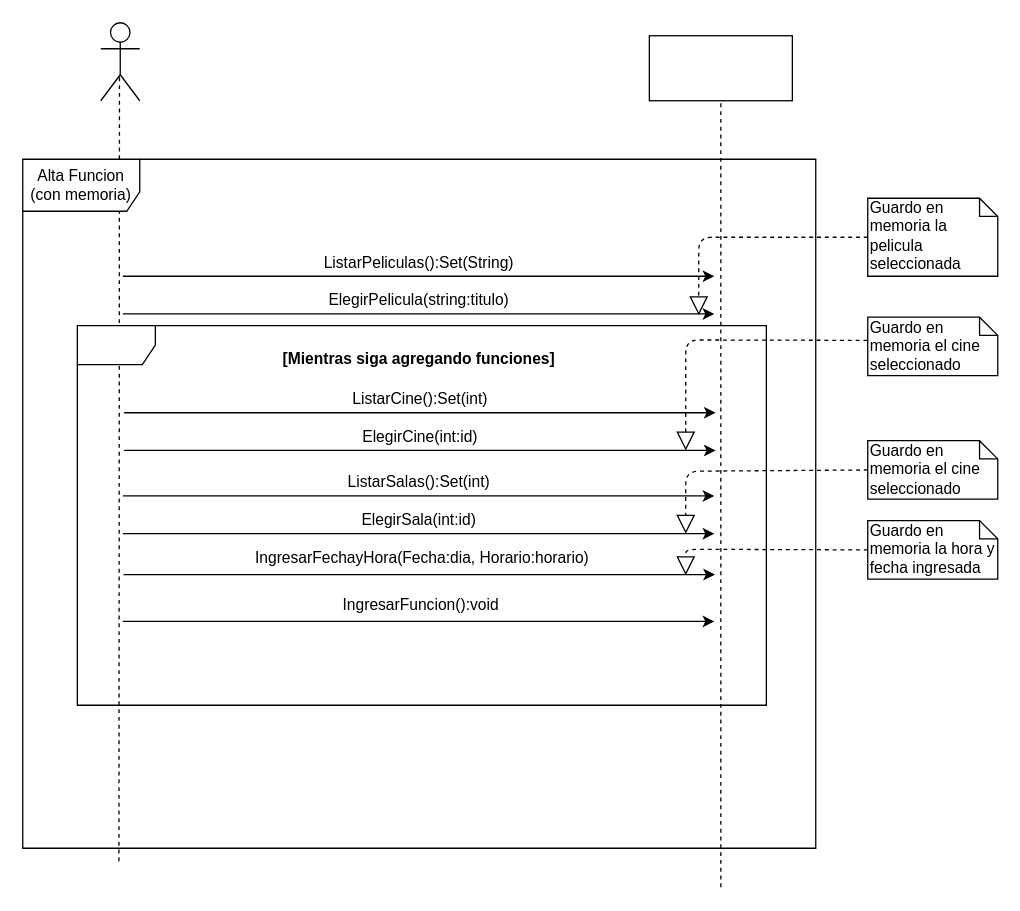
Some shapes in this 1020 by 911 pixel diagram are drawn without their labels. The box of each missing label's shape, as (x1, y1, x2, y2) in pixels:
:Sistema: (648, 34, 792, 101)
Actor: (99, 21, 140, 101)
loop: (76, 324, 766, 705)
